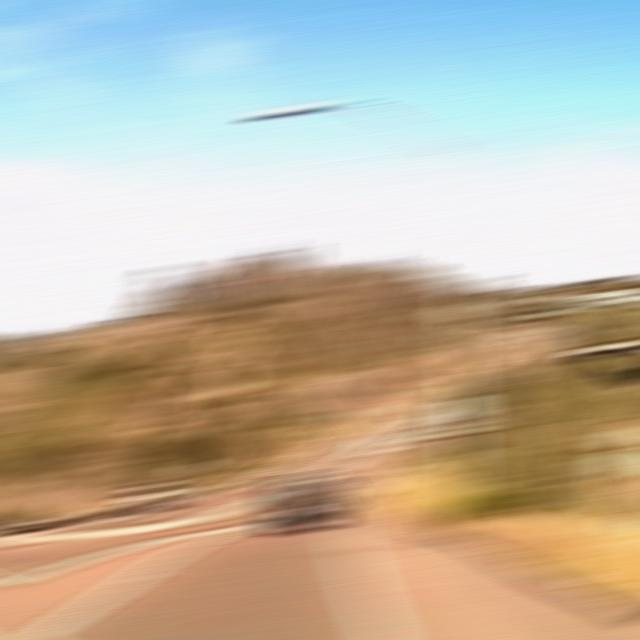speedLimit50: (440, 398, 484, 434)
